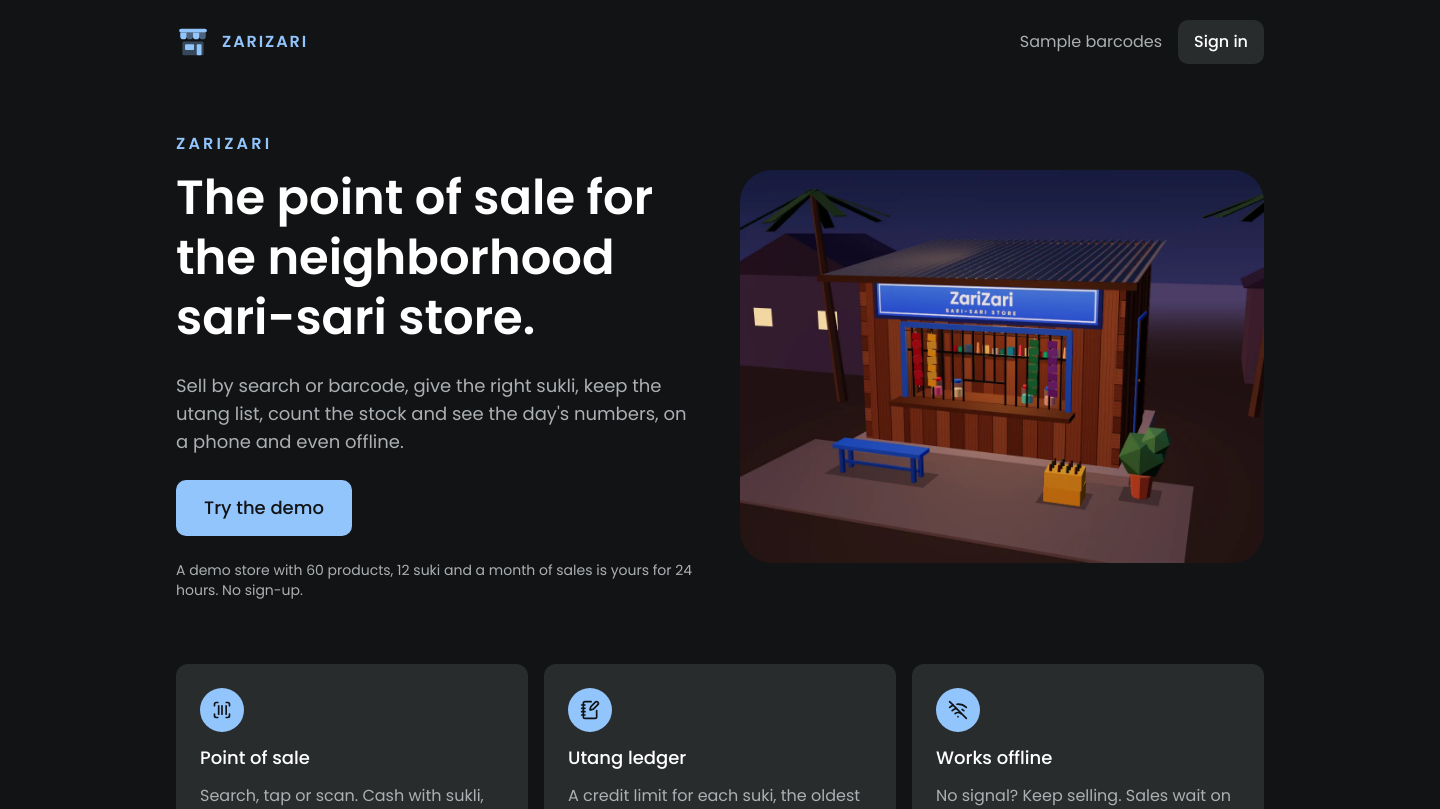
Test: landing page (spec 3.1) › says so when the server does not wake up in time, and lets the visitor try again
What coordinates should you click on to do the following:
click the button "Try the demo"
I would click on:
 (264, 508)
Its box is x1=176 y1=480 x2=352 y2=536.
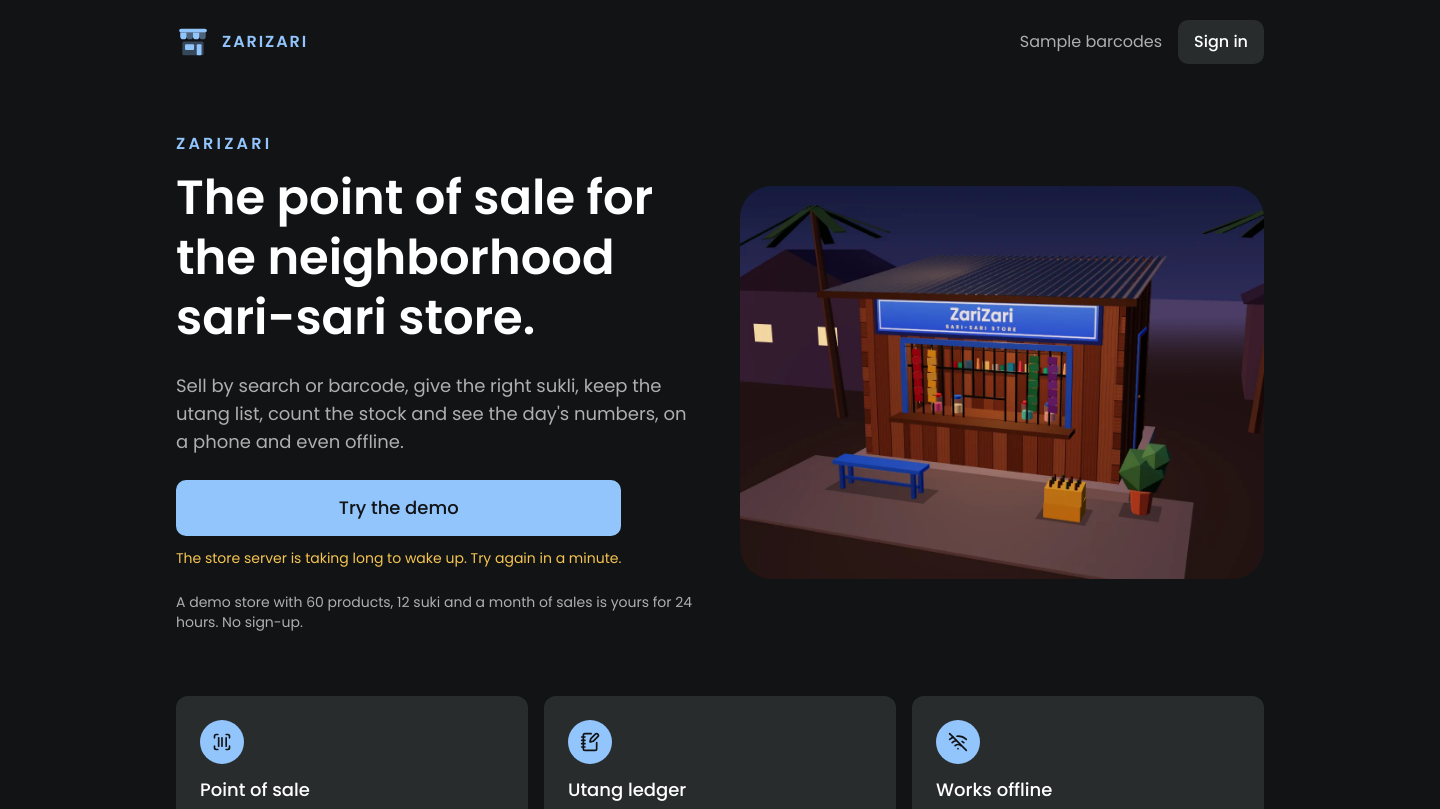
Expected: the button "Try the demo" is enabled, x1=176 y1=480 x2=621 y2=536
Result: the message reads "The store server is taking long to wake up. Try again in a minute." at x1=176 y1=548 x2=621 y2=568
